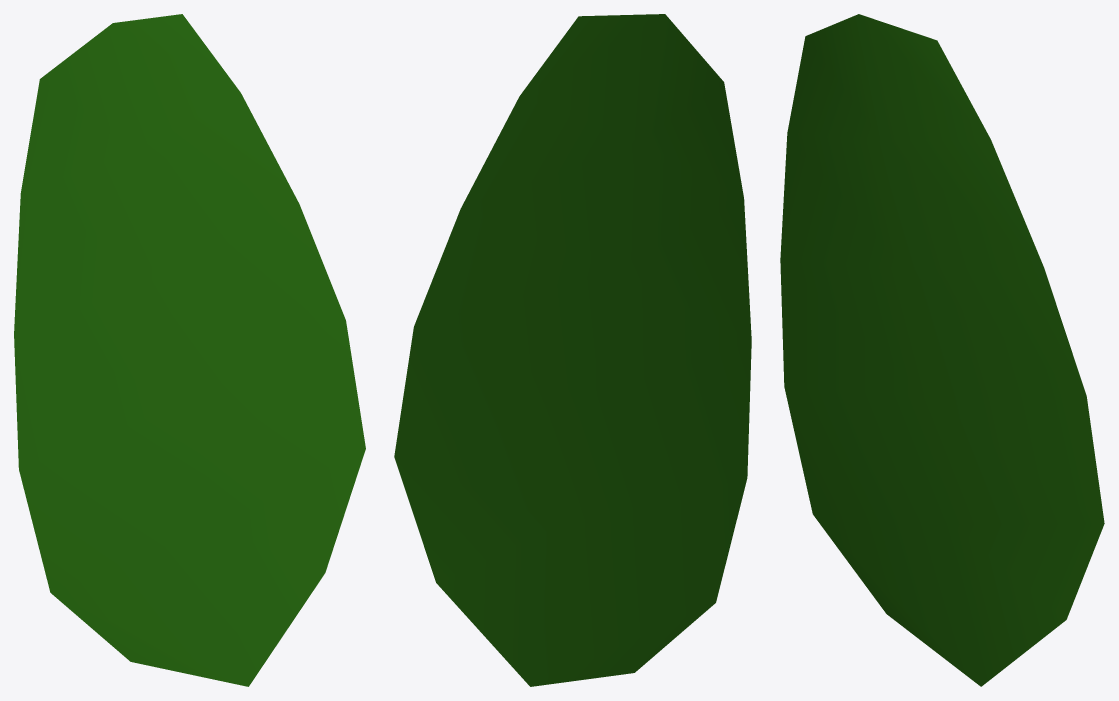
File: lovebird_feather_flight_tertiary_018.001.obj
The picture shows the model from 3 angles, left to right: view 1: azimuth 30°, elevation 25°; view 2: azimuth 150°, elevation 25°; view 3: azimuth 330°, elevation 25°; orthographic projection. The views are drawn at different scales.
Visible parts, largest first — view 1: feather_flight_tertiary_018.001; view 2: feather_flight_tertiary_018.001; view 3: feather_flight_tertiary_018.001.
Part boxes in pixels (left/top/right/bottom): feather_flight_tertiary_018.001: left=14, top=14, right=365, bottom=686; feather_flight_tertiary_018.001: left=394, top=14, right=751, bottom=686; feather_flight_tertiary_018.001: left=780, top=14, right=1104, bottom=686.
Size of the model in its own units: 0.00424 by 0.00801 by 0.000195.
